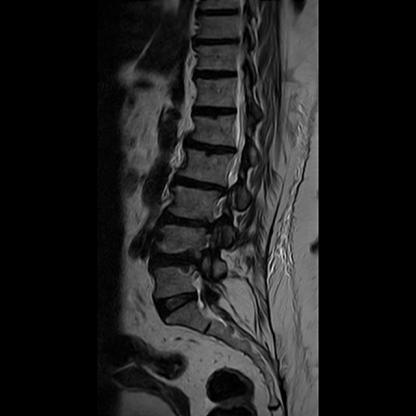Disc Bulgerotation: (146, 239, 215, 279), (152, 202, 221, 232), (153, 289, 207, 321), (166, 172, 233, 197)
